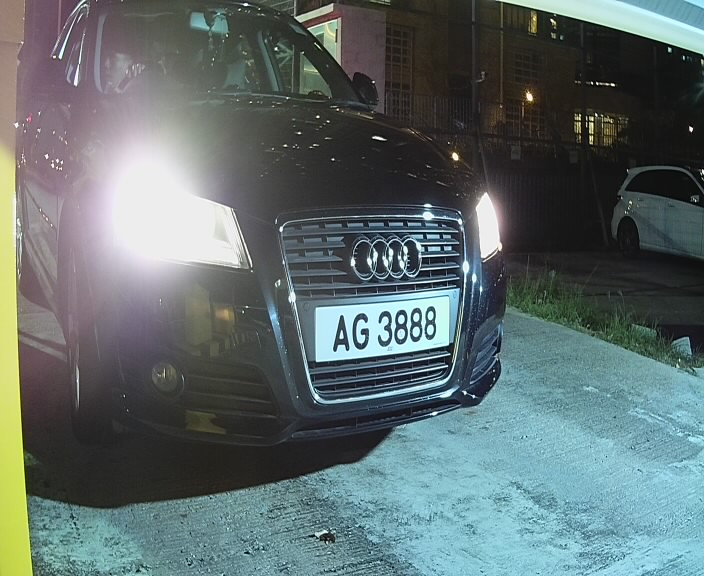License Plate: (315, 293, 454, 372)
